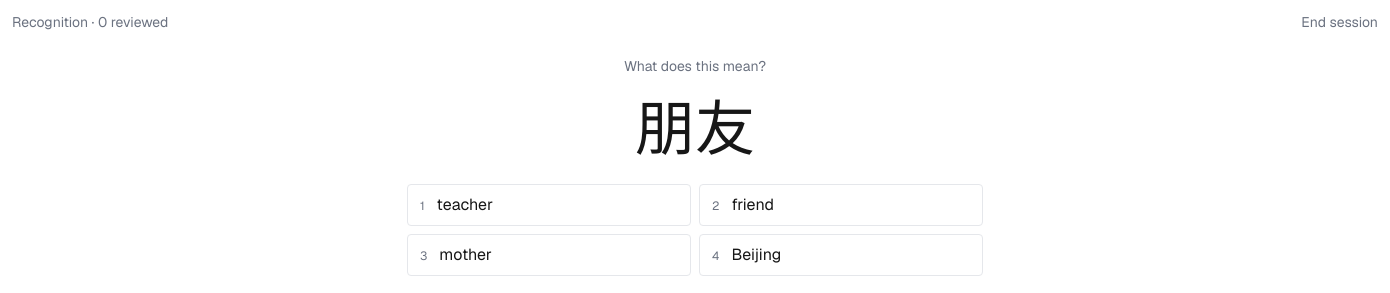
Test: ReviewSession › says the cards are still due when the session is ended early
The image size is (1390, 293).
Click the button "End session" at coordinates (1340, 22), box [1301,12,1378,32]
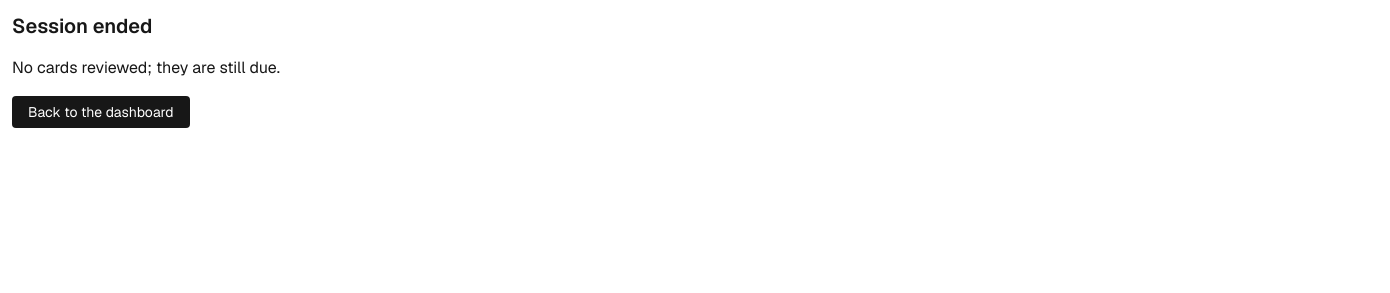
Check: the heading "Session ended" is shown, box [12,12,152,40]
Check: the message reads "No cards reviewed; they are still due.", box [12,57,280,78]
